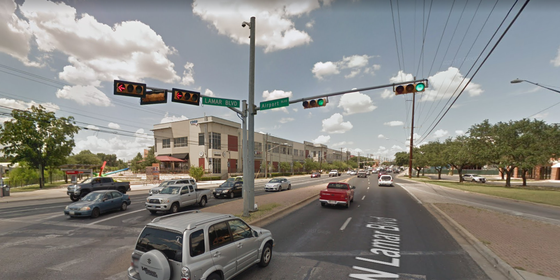street name sign: (199, 93, 244, 112), (258, 93, 292, 115)
